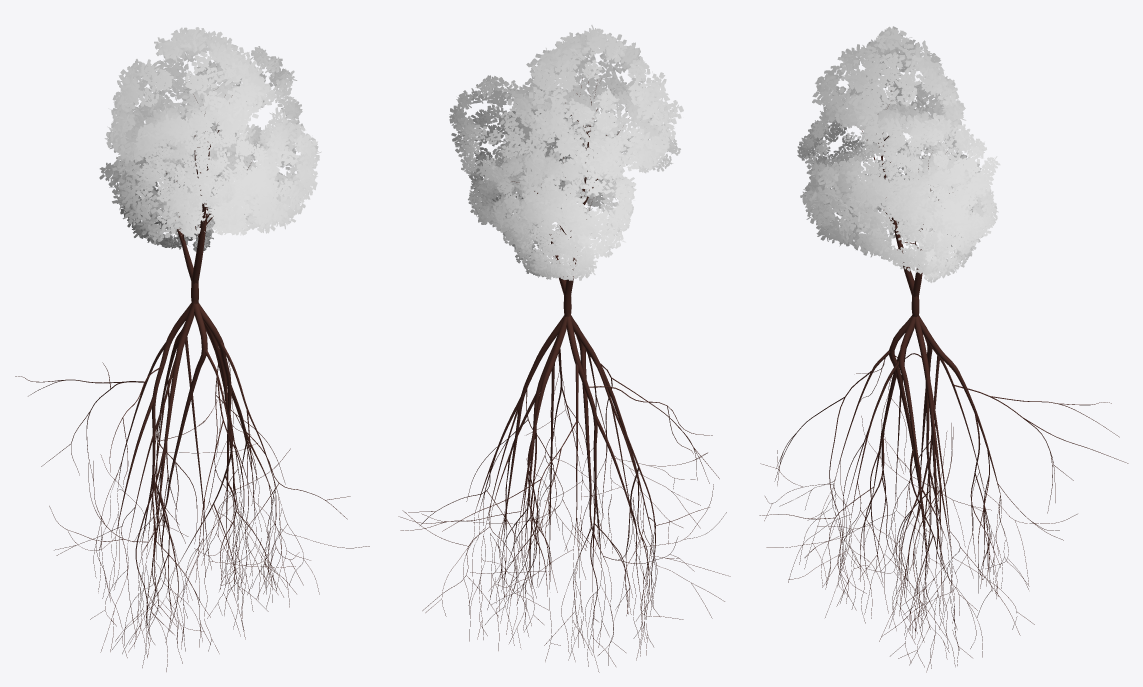
The model's file is Mangrove 1.fbx.
3 renders of one model, left to right at view 1: azimuth 30°, elevation 25°; view 2: azimuth 150°, elevation 25°; view 3: azimuth 270°, elevation 25°, orthographic. The views are drawn at different scales.
Parts seen in each view (by area): view 1: Leaves 1, a trunk; view 2: Leaves 1, a trunk; view 3: Leaves 1, a trunk.
Part boxes in pixels (x1,y1,x2,y2): Leaves 1: (99,27,321,251); a trunk: (15,94,369,671); Leaves 1: (449,25,683,280); a trunk: (398,78,730,672); Leaves 1: (797,26,1000,282); a trunk: (759,104,1128,672).
Bounding box in the file's own units: 1080 × 2210 × 1169.
